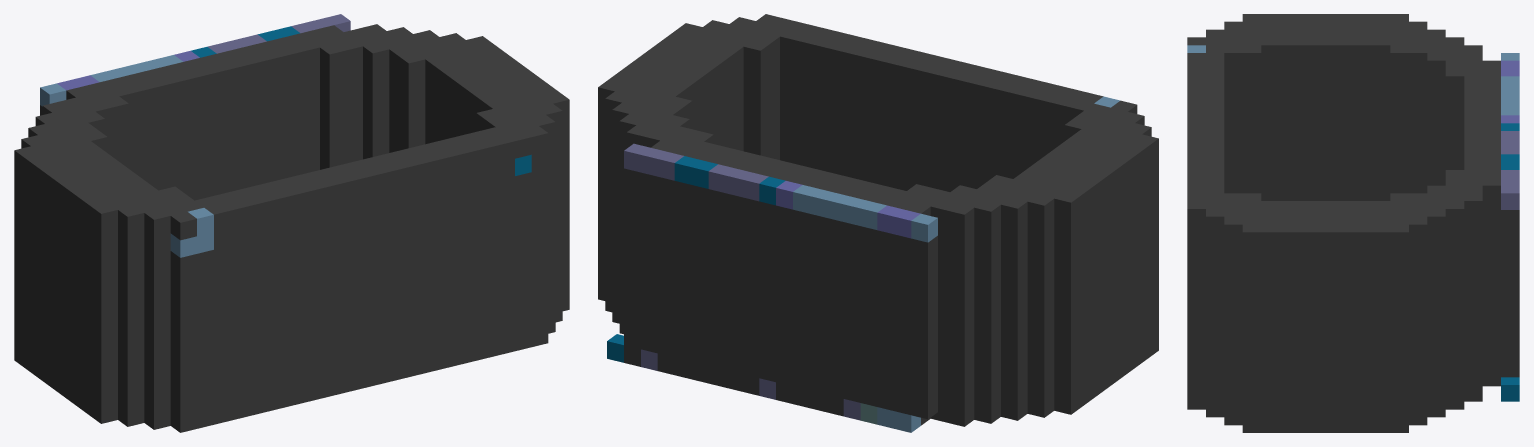
3 views of the same model, side by side, from view 1: azimuth 30°, elevation 25°; view 2: azimuth 150°, elevation 25°; view 3: azimuth 270°, elevation 25° (orthographic). The views are drawn at different scales.
Bounding box in the file's own units: 1.4 × 0.6 × 0.9.
